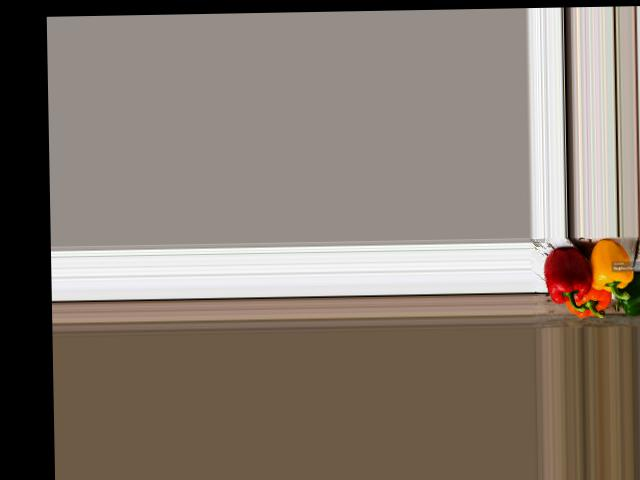bell_pepper: (566, 285, 613, 318)
